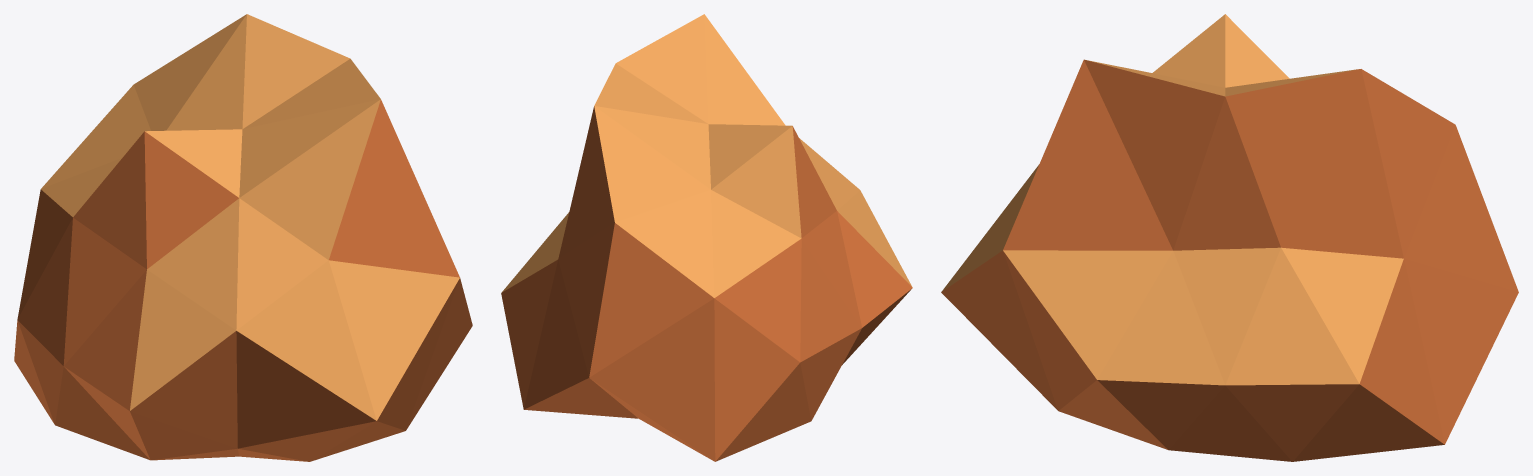
The model's file is CA_Roca_Pequena_B.obj.
3 renders of one model, left to right at view 1: azimuth 30°, elevation 25°; view 2: azimuth 150°, elevation 25°; view 3: azimuth 270°, elevation 25°, orthographic. The views are drawn at different scales.
Parts seen in each view (by area): view 1: CA_Roca_Pequena_B; view 2: CA_Roca_Pequena_B; view 3: CA_Roca_Pequena_B.
Part boxes in pixels (x1=…): CA_Roca_Pequena_B: x1=14, y1=14, x2=472, y2=461; CA_Roca_Pequena_B: x1=501, y1=14, x2=912, y2=461; CA_Roca_Pequena_B: x1=941, y1=14, x2=1518, y2=461.
Bounding box in the file's own units: 0.9506 × 0.8729 × 1.25.
